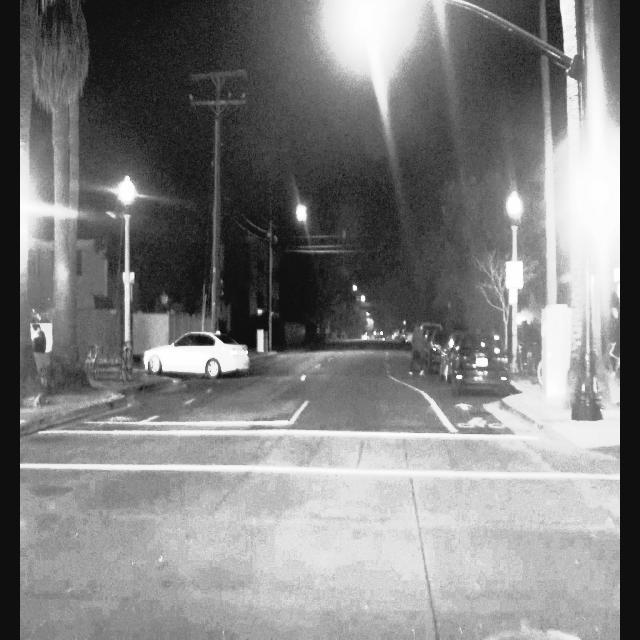Light: (590, 175, 610, 237), (357, 1, 375, 49)
Tree: (40, 0, 100, 401)
